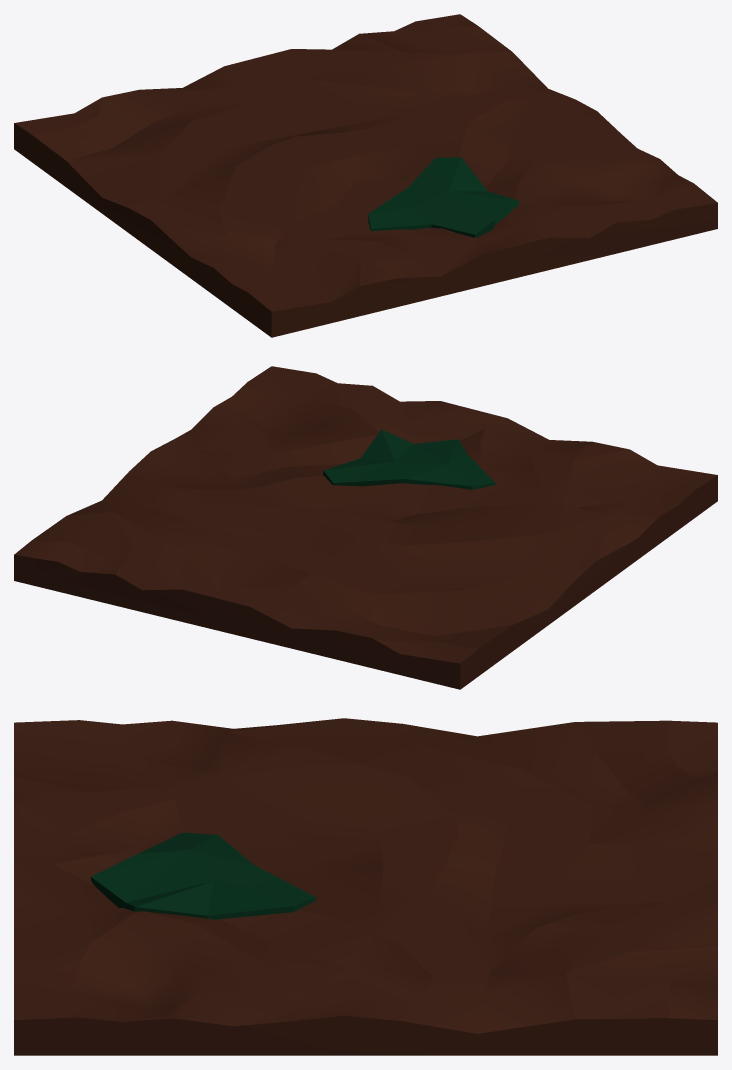
The model's file is Ground_Base_D.fbx.
3 views of the same model, one above another, from view 1: azimuth 30°, elevation 25°; view 2: azimuth 150°, elevation 25°; view 3: azimuth 270°, elevation 25° (orthographic). The views are drawn at different scales.
Parts seen in each view (by area): view 1: Ground_Base_D; view 2: Ground_Base_D; view 3: Ground_Base_D.
Part boxes in pixels (x1,y1,x2,y2): Ground_Base_D: (14,14,717,337); Ground_Base_D: (14,366,717,689); Ground_Base_D: (14,718,717,1055).
Size of the model in its own units: 147 by 12.24 by 147.
